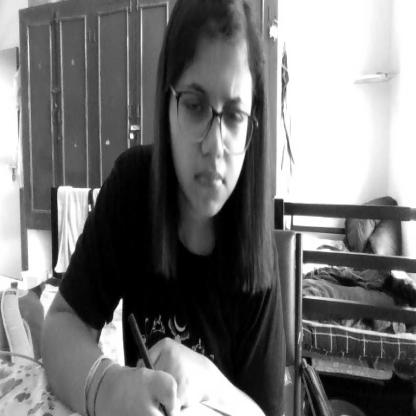Normal: (151, 0, 263, 216)
